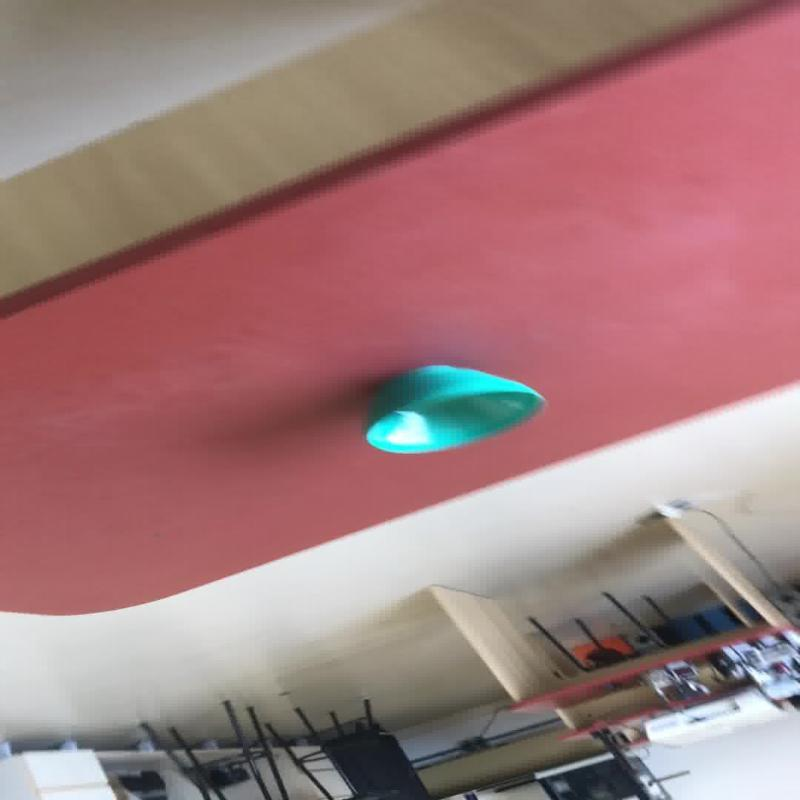bowl: (362, 363, 546, 454)
